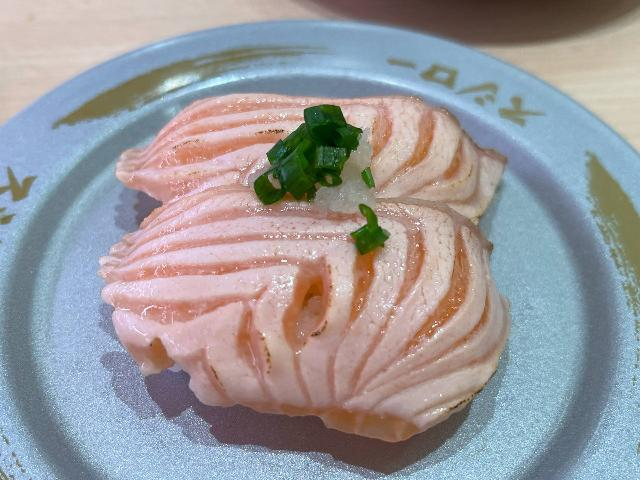janwhite: (2, 66, 640, 479)
